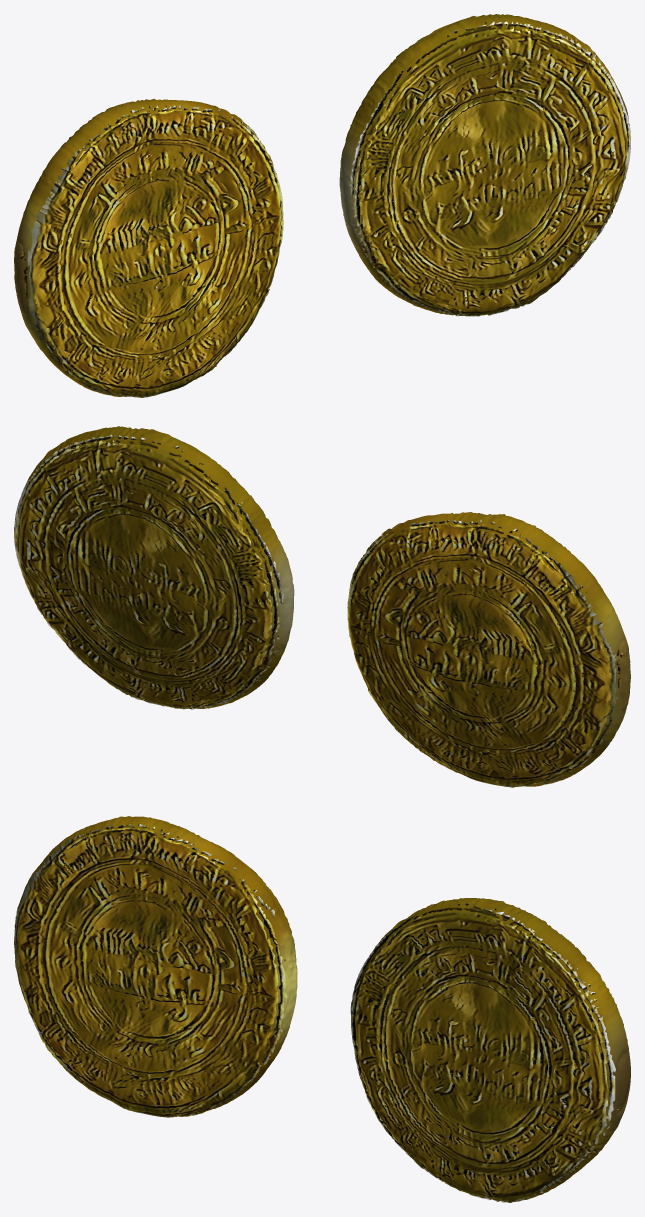
Rendered from kfl-2150.glb.
3 renders of one model, top to bottom at view 1: azimuth 30°, elevation 25°; view 2: azimuth 150°, elevation 25°; view 3: azimuth 330°, elevation 25°, orthographic.
Visible parts, largest first — view 1: kfl-2150; view 2: kfl-2150; view 3: kfl-2150.
Part boxes in pixels (x1=…): kfl-2150: x1=14, y1=14, x2=630, y2=397; kfl-2150: x1=14, y1=426, x2=630, y2=787; kfl-2150: x1=14, y1=816, x2=630, y2=1202.
Bounding box in the file's own units: 0.9938 × 0.4395 × 0.1133.
4 materials, 4 textured.
